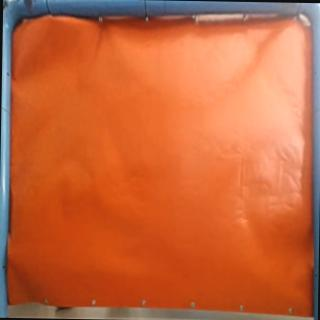Hit-hRxx: (8, 253, 28, 269)
